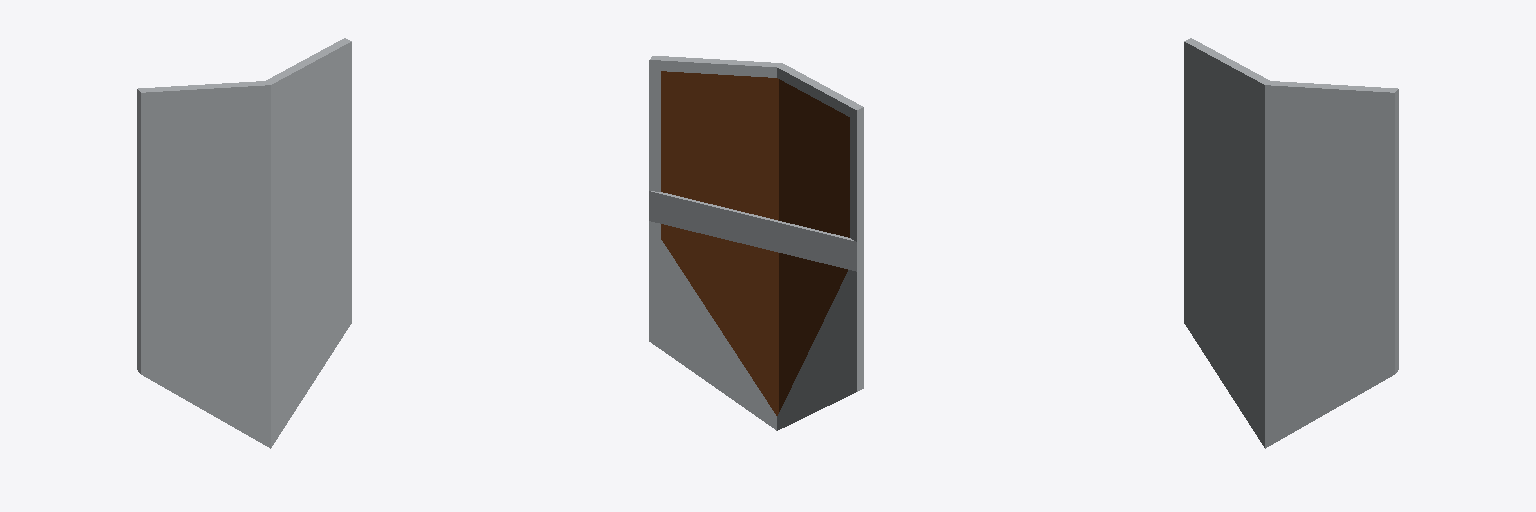
File: sheild.obj
3 views of the same model, side by side, from view 1: azimuth 30°, elevation 25°; view 2: azimuth 150°, elevation 25°; view 3: azimuth 330°, elevation 25° (orthographic).
Parts seen in each view (by area): view 1: Mesh1 Model; view 2: Mesh1 Model; view 3: Mesh1 Model.
Part boxes in pixels (x1,y1,x2,y2): Mesh1 Model: (137,38,351,448); Mesh1 Model: (649,56,863,430); Mesh1 Model: (1184,38,1398,448).
Bounding box in the file's own units: 0.657 × 1.08 × 0.1615.